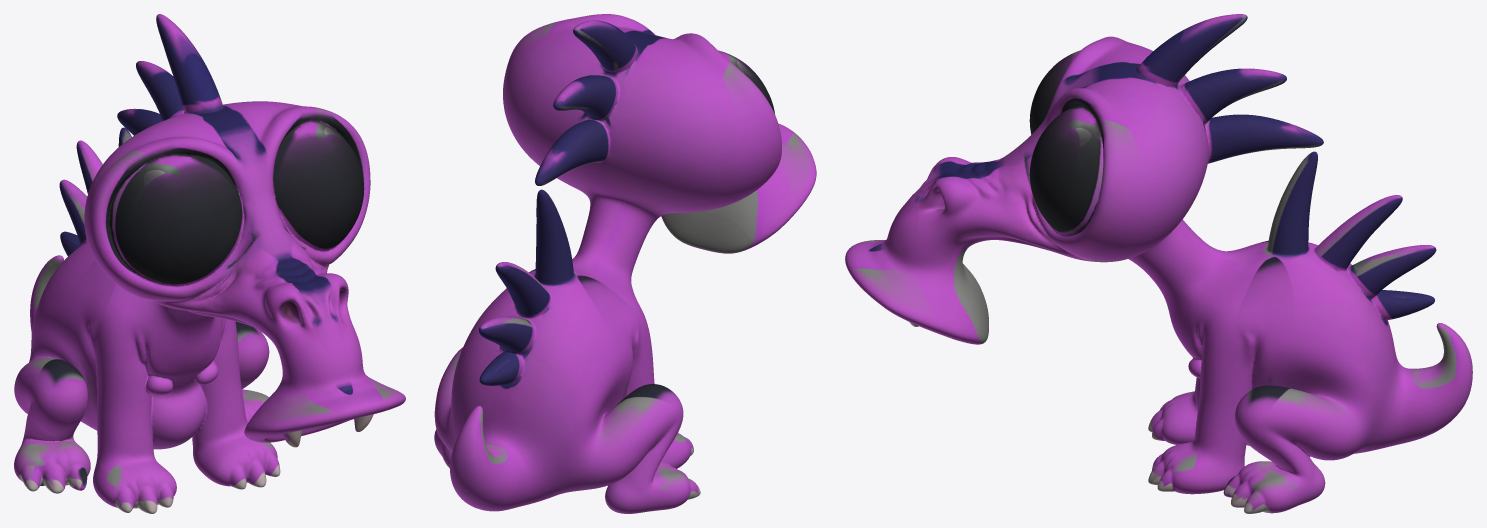
Rendered from chupacabra.glb.
3 renders of one model, left to right at view 1: azimuth 30°, elevation 25°; view 2: azimuth 150°, elevation 25°; view 3: azimuth 270°, elevation 25°, orthographic. The views are drawn at different scales.
Parts seen in each view (by area): view 1: tripo_node_456a0725-4dab-4080-87d2-5d91c4b049d4; view 2: tripo_node_456a0725-4dab-4080-87d2-5d91c4b049d4; view 3: tripo_node_456a0725-4dab-4080-87d2-5d91c4b049d4.
Part boxes in pixels (x1,y1,x2,y2): tripo_node_456a0725-4dab-4080-87d2-5d91c4b049d4: (14,14,405,513); tripo_node_456a0725-4dab-4080-87d2-5d91c4b049d4: (434,14,816,513); tripo_node_456a0725-4dab-4080-87d2-5d91c4b049d4: (845,14,1472,513).
Size of the model in its own units: 0.4976 by 0.782 by 1.
Materials: 1 (1 with a texture image).
